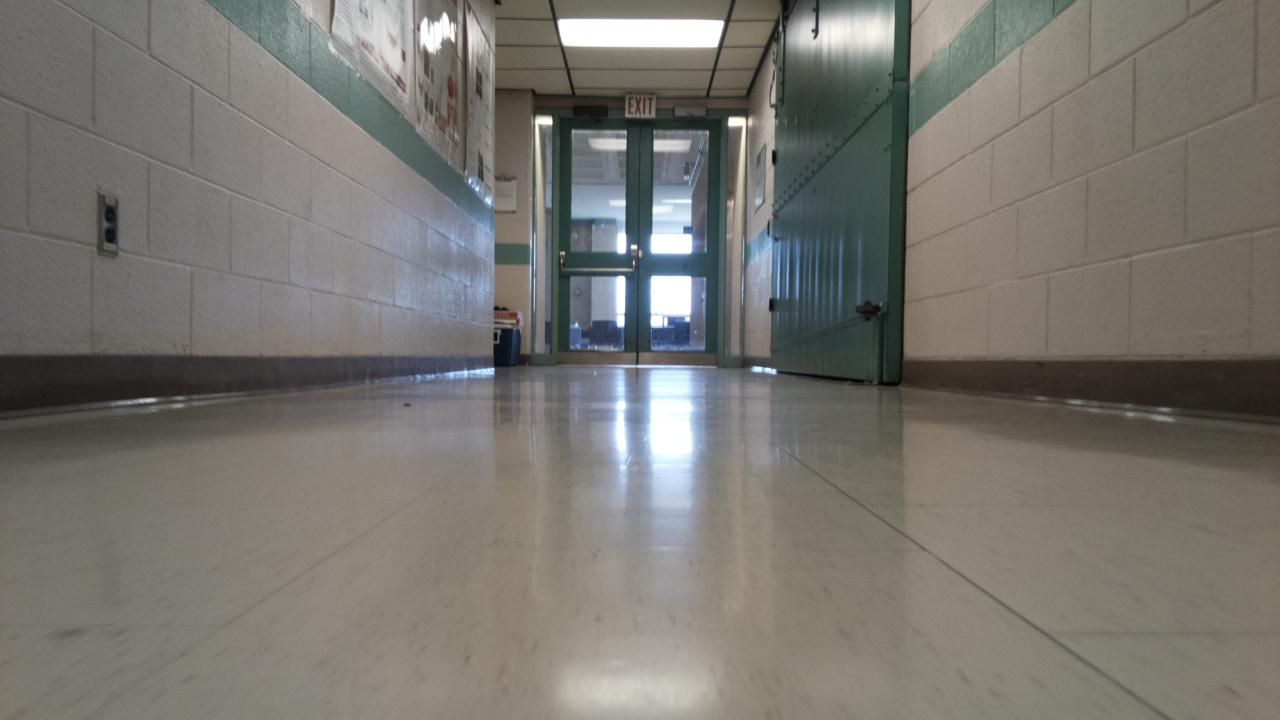door: (559, 118, 720, 367)
sign: (625, 95, 655, 117)
